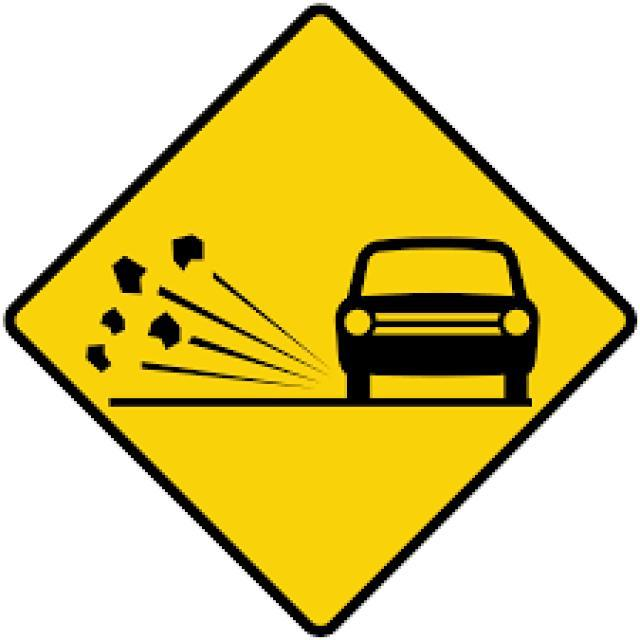loose gravel: (15, 25, 629, 627)
